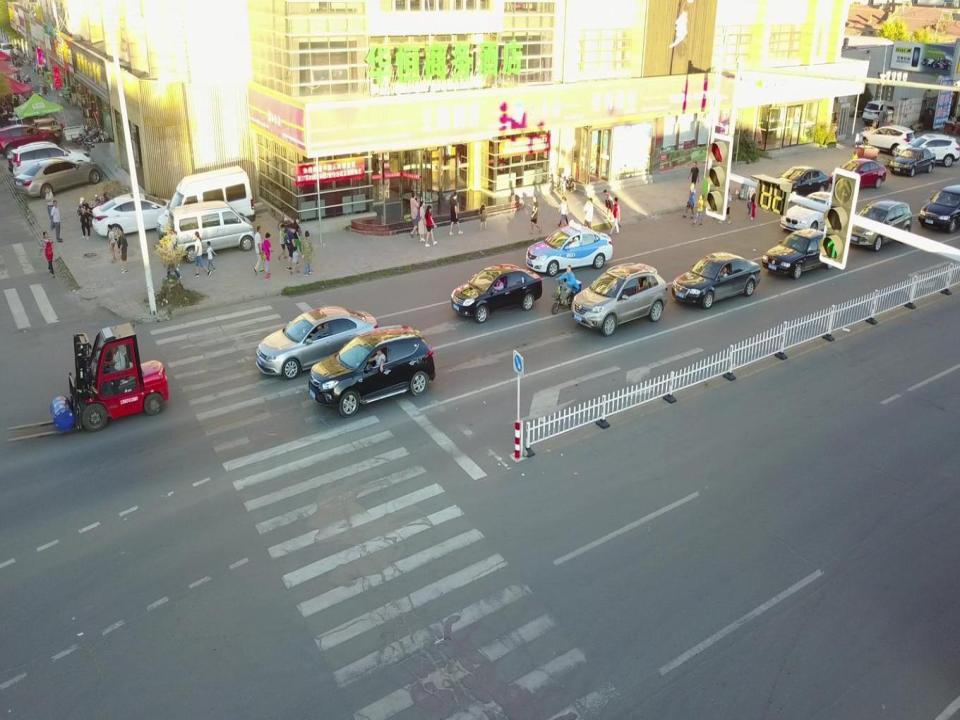car: (308, 325, 436, 417), (254, 306, 377, 378), (570, 262, 666, 336), (451, 263, 542, 323), (671, 250, 760, 309), (525, 219, 613, 276), (91, 193, 179, 239), (13, 157, 103, 199), (762, 228, 835, 278), (12, 140, 91, 185), (846, 198, 912, 250), (780, 190, 845, 234), (766, 165, 827, 204), (856, 122, 916, 158), (0, 123, 59, 159), (892, 134, 954, 168), (9, 145, 69, 176), (918, 185, 954, 236), (829, 158, 886, 189), (889, 148, 936, 177), (862, 99, 894, 129), (0, 42, 18, 62)
van: (156, 166, 256, 244), (169, 198, 255, 264)
